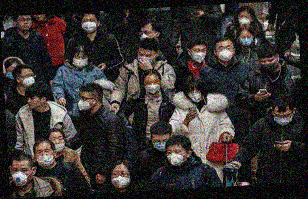mask_weared_incorrect: (49, 135, 66, 153)
with_mask: (11, 165, 32, 187), (110, 169, 132, 189), (165, 148, 188, 167), (36, 147, 56, 168), (143, 78, 161, 96), (215, 45, 233, 63), (137, 51, 156, 68), (273, 111, 294, 126), (152, 136, 171, 152), (259, 57, 278, 73), (81, 18, 98, 34), (191, 47, 207, 64), (138, 29, 156, 43), (188, 88, 203, 104), (77, 94, 91, 111), (71, 55, 89, 68), (22, 71, 35, 88), (239, 33, 253, 47), (237, 14, 252, 26), (6, 68, 17, 82)
without_mask: (17, 16, 33, 32), (27, 95, 40, 109)
